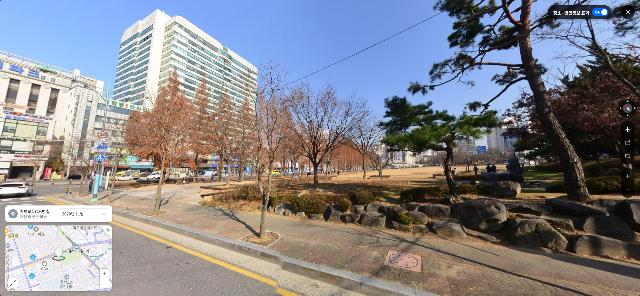other: (412, 0, 640, 203), (378, 96, 504, 205), (125, 63, 211, 215), (241, 57, 307, 238), (284, 78, 372, 191), (210, 80, 251, 187), (346, 118, 385, 181)
